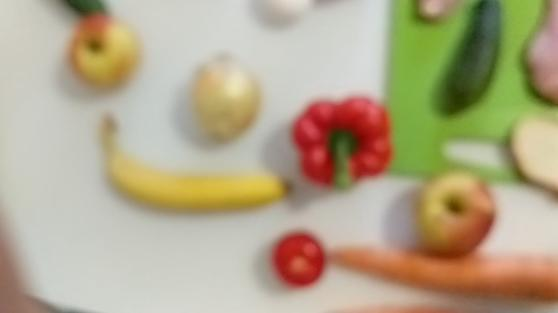apple: (421, 176, 499, 256), (65, 17, 142, 88)
banana: (99, 108, 295, 210)
carrot: (338, 244, 558, 302)
cucumber: (443, 1, 504, 108)
onion: (192, 51, 265, 142)
pepper: (299, 95, 395, 191)
tomato: (272, 231, 329, 287)
white_bread: (510, 116, 558, 191)
